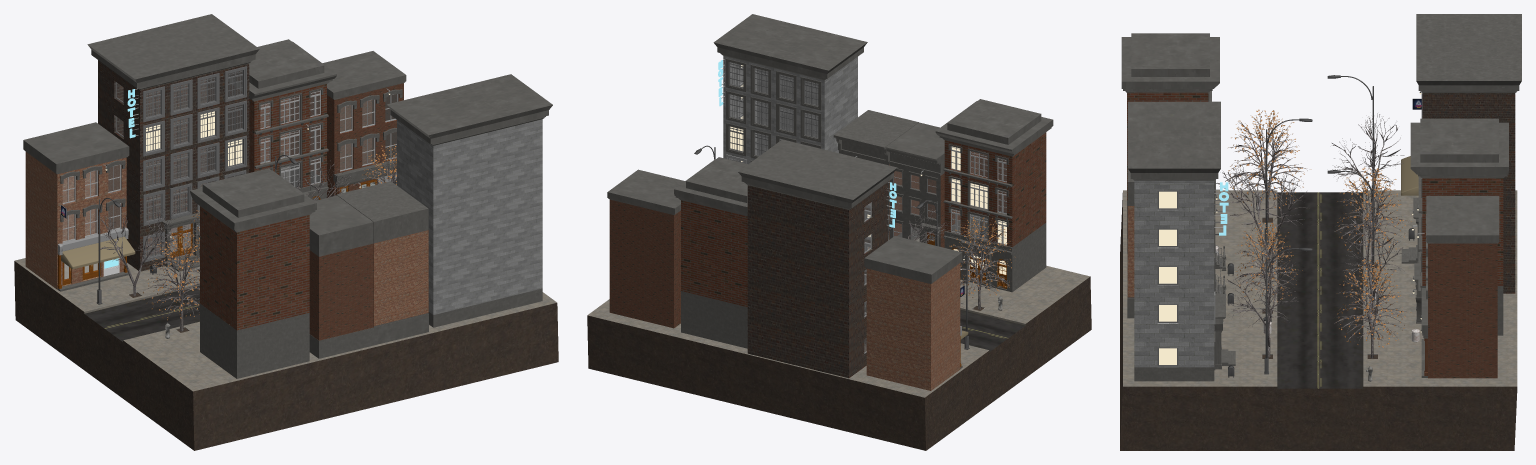
Rendered from strada.glb.
The picture shows the model from 3 angles, left to right: view 1: azimuth 30°, elevation 25°; view 2: azimuth 150°, elevation 25°; view 3: azimuth 270°, elevation 25°; orthographic projection. The views are drawn at different scales.
Parts seen in each view (by area): view 1: Cube, Plane.001, Cube.177, Cube.245, Cube.105, Cube.058, Cube.106, Cube.001, Cube.325, tree, Cube.159, Cube.200 (+5 smaller); view 2: Cube, Plane.001, Cube.105, Cube.245, Cube.058, Cube.325, Cube.177, Cube.001, Cube.106, tree, Cube.159, Cube.129 (+2 smaller); view 3: Plane.001, Cube, Cube.177, tree, Cube.325, Cube.105, leaves, Cube.245, Cube.151, Cube.129, Cube.106, Cube.058 (+1 smaller).
Boxes of the visible parts, bbox=[...] form: Cube: bbox=[23, 14, 552, 378]; Plane.001: bbox=[14, 182, 558, 450]; Cube.177: bbox=[397, 119, 542, 314]; Cube.245: bbox=[200, 84, 326, 330]; Cube.105: bbox=[98, 60, 249, 271]; Cube.058: bbox=[25, 152, 428, 325]; Cube.106: bbox=[143, 66, 246, 262]; Cube.001: bbox=[57, 71, 389, 279]; Cube.325: bbox=[327, 83, 403, 197]; tree: bbox=[98, 145, 396, 331]; Cube.159: bbox=[62, 90, 398, 242]; Cube.200: bbox=[340, 94, 396, 192]; Cube: bbox=[607, 14, 1053, 368]; Plane.001: bbox=[587, 238, 1091, 450]; Cube.105: bbox=[747, 182, 887, 378]; Cube.245: bbox=[681, 132, 1046, 306]; Cube.058: bbox=[866, 164, 960, 390]; Cube.325: bbox=[609, 199, 680, 328]; Cube.177: bbox=[723, 56, 857, 164]; Cube.001: bbox=[721, 59, 1006, 353]; Cube.106: bbox=[729, 62, 870, 315]; tree: bbox=[736, 160, 1010, 309]; Cube.159: bbox=[951, 146, 1006, 245]; Cube.129: bbox=[730, 65, 1006, 274]; Plane.001: bbox=[1120, 190, 1517, 450]; Cube: bbox=[1121, 14, 1521, 381]; Cube.177: bbox=[1134, 180, 1214, 367]; tree: bbox=[1218, 112, 1407, 358]; Cube.325: bbox=[1428, 243, 1497, 378]; Cube.105: bbox=[1422, 93, 1515, 293]; leaves: bbox=[1228, 109, 1411, 347]; Cube.245: bbox=[1127, 92, 1503, 285]; Cube.151: bbox=[1227, 75, 1414, 377]; Cube.129: bbox=[1159, 191, 1176, 364]; Cube.106: bbox=[1157, 92, 1422, 366]; Cube.058: bbox=[1127, 206, 1134, 297].
Size of the model in its own units: 40 by 26.75 by 34.64.
39 materials, 23 textured.
